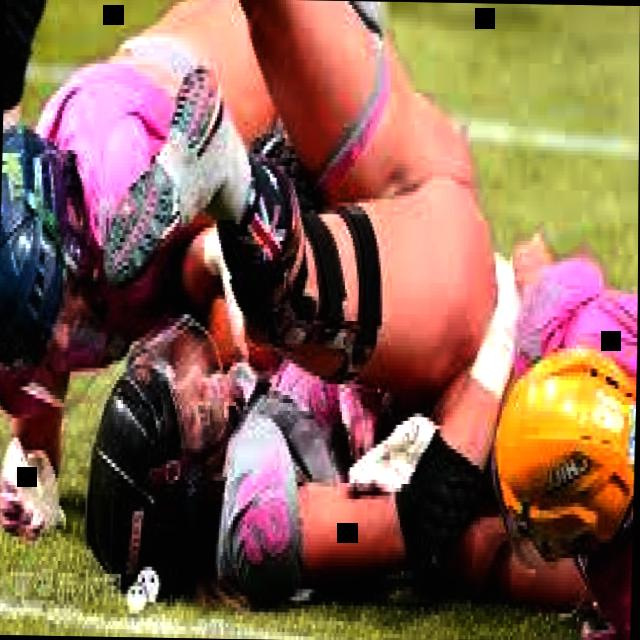Fall-Detected: (0, 0, 631, 519)
